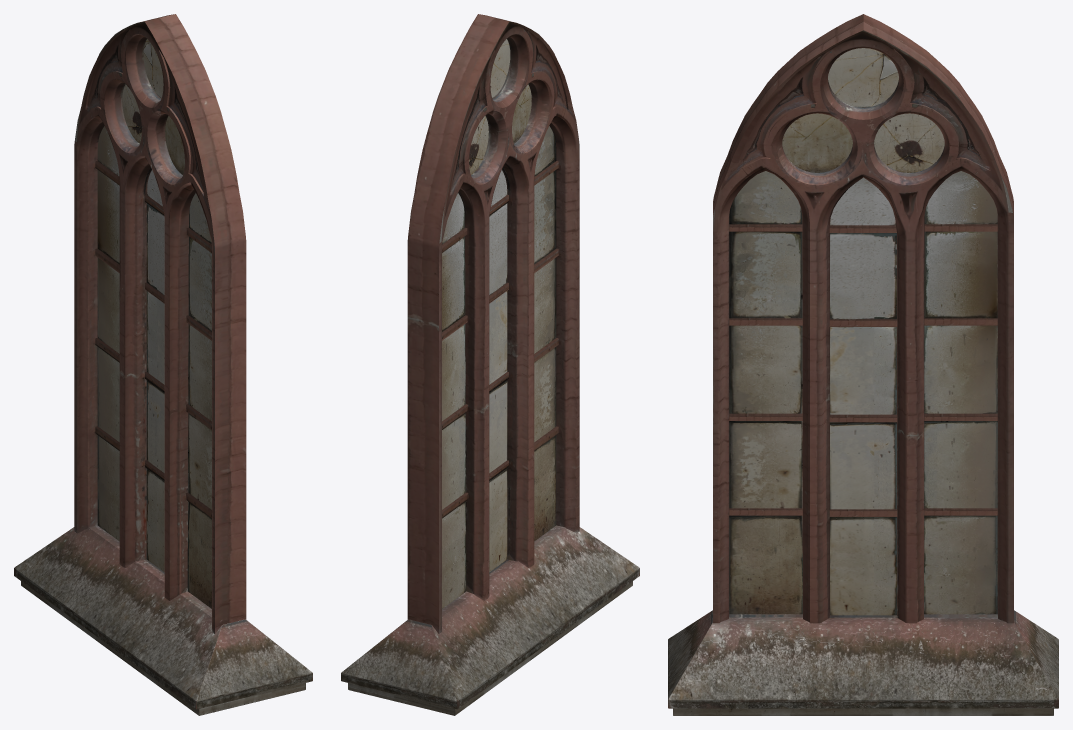
File: sm_Window_01_01.fbx
3 views of the same model, side by side, from view 1: azimuth 30°, elevation 25°; view 2: azimuth 150°, elevation 25°; view 3: azimuth 270°, elevation 25° (orthographic). The views are drawn at different scales.
Visible parts, largest first — view 1: sm_Window_01_01_LOD0; view 2: sm_Window_01_01_LOD0; view 3: sm_Window_01_01_LOD0.
Boxes of the visible parts, left/top/right/bottom form: sm_Window_01_01_LOD0: left=14, top=14, right=312, bottom=715; sm_Window_01_01_LOD0: left=341, top=14, right=639, bottom=715; sm_Window_01_01_LOD0: left=668, top=14, right=1058, bottom=715.
Size of the model in its own units: 84.06 by 228 by 427.
